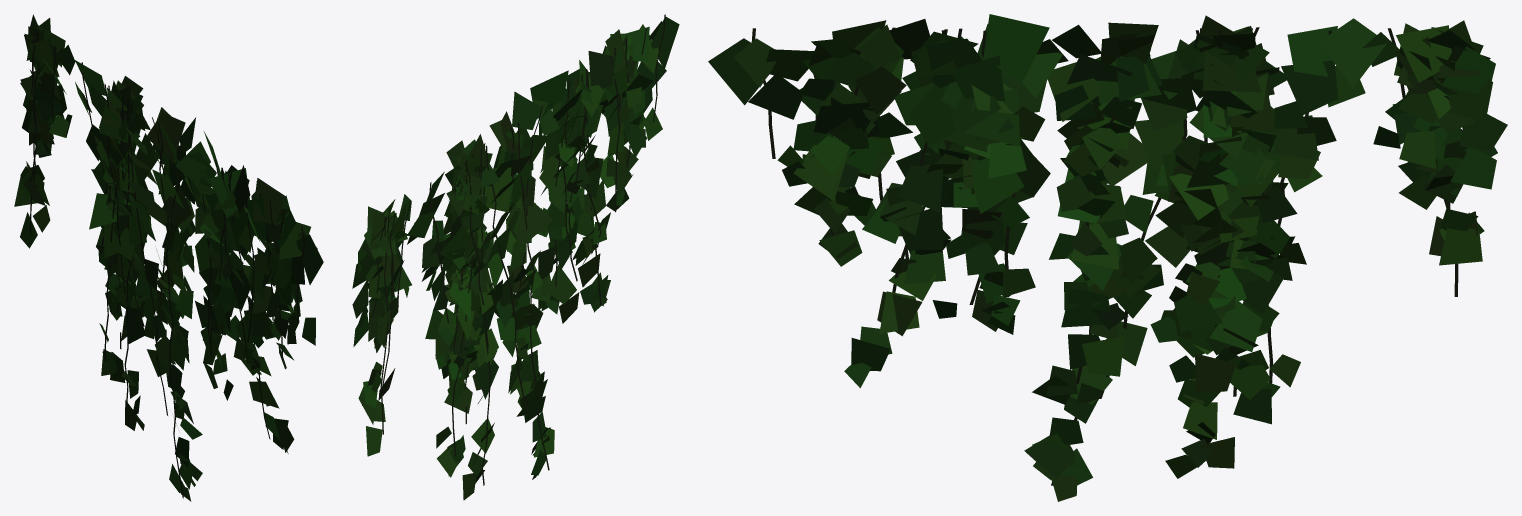
File: SM_Ivy.fbx
3 views of the same model, side by side, from view 1: azimuth 30°, elevation 25°; view 2: azimuth 150°, elevation 25°; view 3: azimuth 270°, elevation 25° (orthographic). The views are drawn at different scales.
Visible parts, largest first — view 1: SM_Ivy; view 2: SM_Ivy; view 3: SM_Ivy.
Boxes of the visible parts, x1,y1,x2,y2 form: SM_Ivy: (14,14,323,501); SM_Ivy: (352,14,679,500); SM_Ivy: (708,14,1507,501).
Bounding box in the file's own units: 18.12 × 161 × 241.
